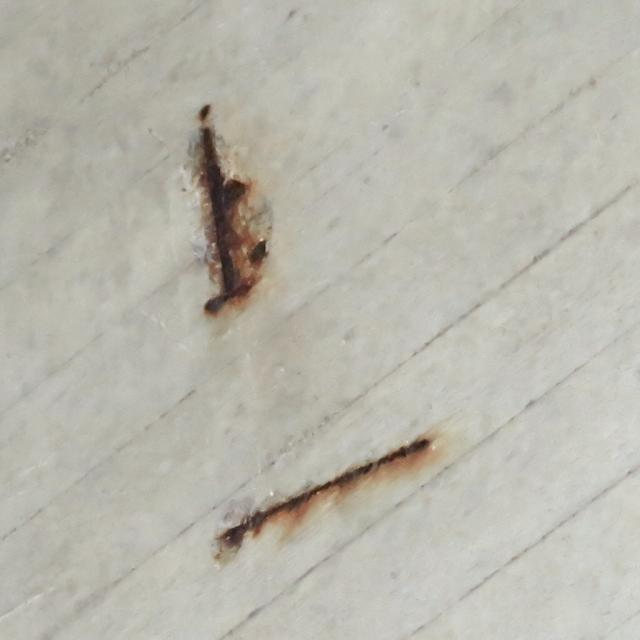D0w0: (182, 106, 273, 333)
